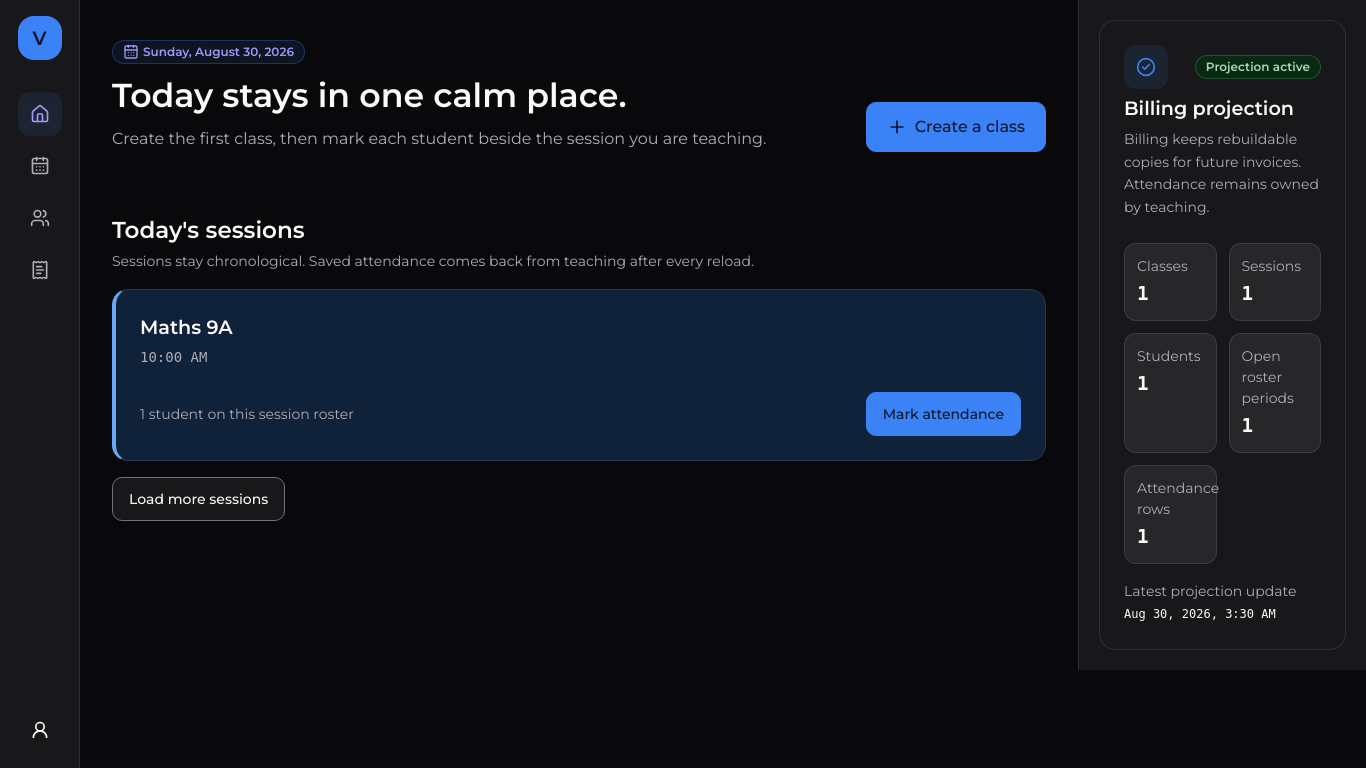
Test: HomePage › loads each opaque cursor page without replacing earlier sessions
Expected: the heading "Maths 9A" is shown, [140,315,233,339]
Click the button "Load more sessions": (199, 499) [112,477,285,521]
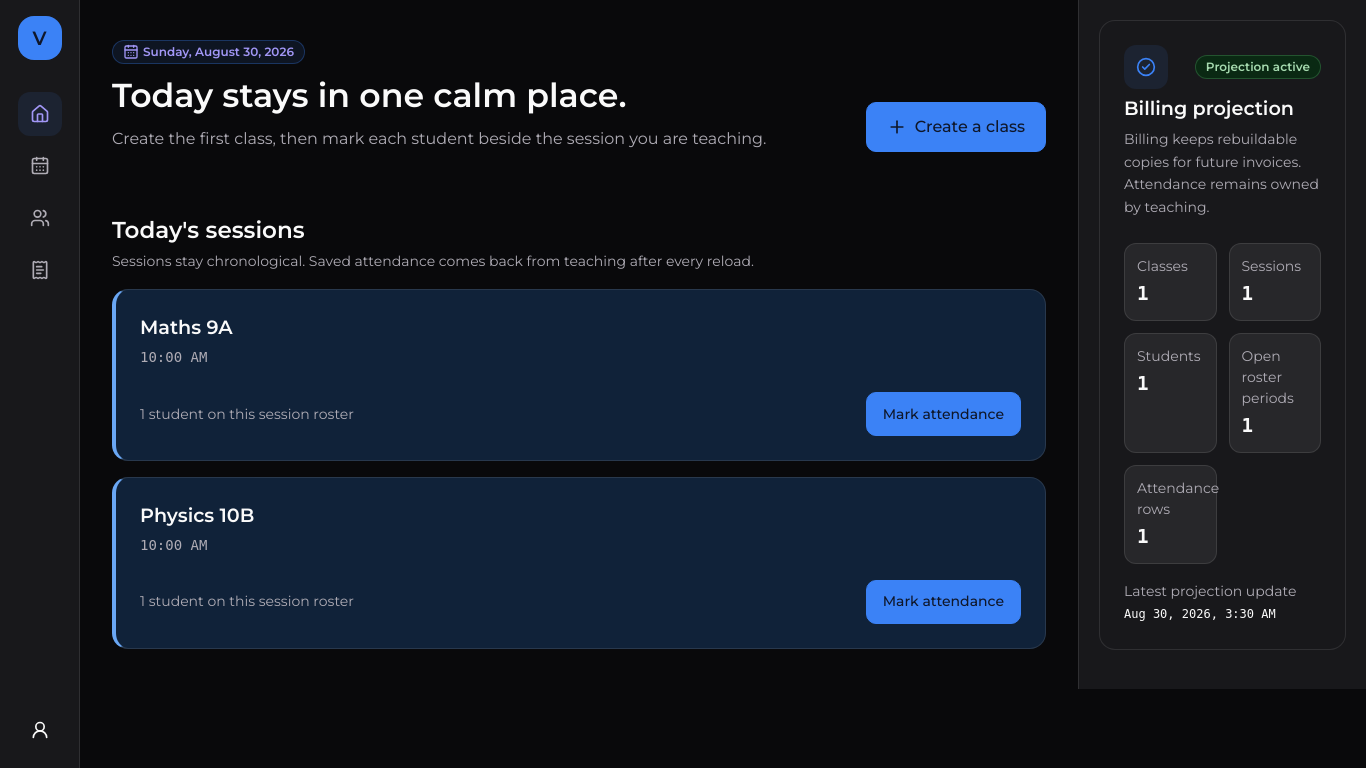
Expected: the heading "Maths 9A" is shown, [140,315,233,339]
Expected: the heading "Physics 10B" is shown, [140,503,254,527]
